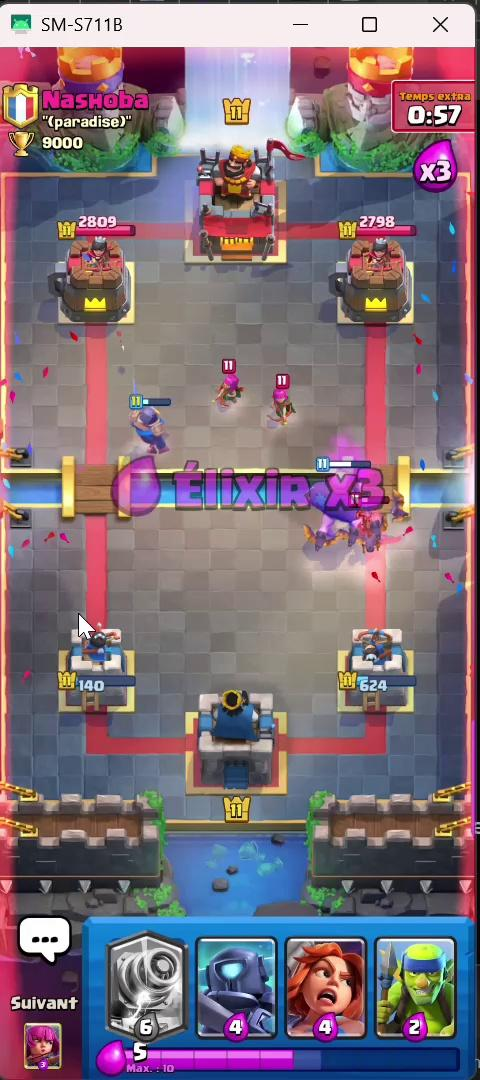archere: (263, 374, 311, 432), (208, 360, 251, 418)
bat: (297, 524, 335, 566), (385, 492, 415, 533), (362, 512, 392, 540), (357, 533, 386, 560), (337, 520, 363, 550)
chevalier: (123, 384, 201, 479)
geant: (302, 466, 382, 549)
mini_PEKKA: (348, 481, 386, 536)
